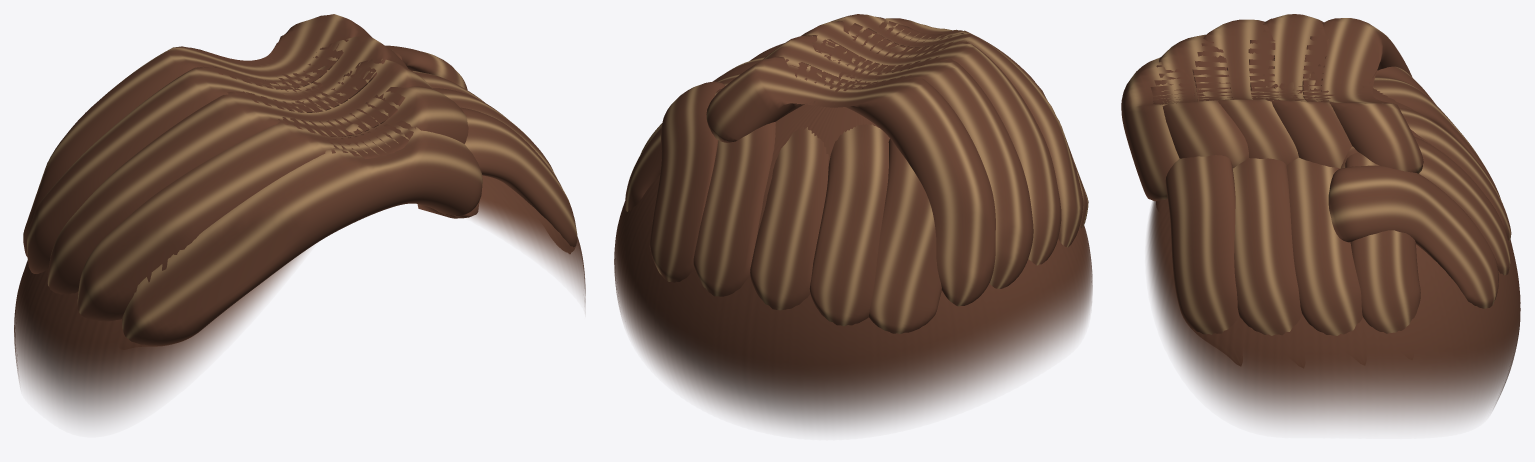
Rendered from Highlights-45efe110d885252-hair.glb.
3 views of the same model, side by side, from view 1: azimuth 30°, elevation 25°; view 2: azimuth 150°, elevation 25°; view 3: azimuth 270°, elevation 25° (orthographic). The views are drawn at different scales.
Visible parts, largest first — view 1: 226 hair / Hair252 / sculpted locks.001, 226 hair / Hair252 / gentle tonal variation.001, 226 hair / Hair252 / restored153 fade coverage.001; view 2: 226 hair / Hair252 / sculpted locks.001, 226 hair / Hair252 / restored153 fade coverage.001, 226 hair / Hair252 / gentle tonal variation.001; view 3: 226 hair / Hair252 / sculpted locks.001, 226 hair / Hair252 / restored153 fade coverage.001, 226 hair / Hair252 / gentle tonal variation.001.
Part boxes in pixels (bbox=[...]): 226 hair / Hair252 / sculpted locks.001: bbox=[23, 14, 557, 321]; 226 hair / Hair252 / gentle tonal variation.001: bbox=[122, 107, 577, 345]; 226 hair / Hair252 / restored153 fade coverage.001: bbox=[14, 82, 585, 422]; 226 hair / Hair252 / sculpted locks.001: bbox=[625, 14, 1083, 333]; 226 hair / Hair252 / restored153 fade coverage.001: bbox=[614, 70, 1092, 430]; 226 hair / Hair252 / gentle tonal variation.001: bbox=[750, 18, 1088, 326]; 226 hair / Hair252 / sculpted locks.001: bbox=[1150, 14, 1511, 335]; 226 hair / Hair252 / restored153 fade coverage.001: bbox=[1147, 85, 1520, 425]; 226 hair / Hair252 / gentle tonal variation.001: bbox=[1121, 57, 1500, 334].
Size of the model in its own units: 0.976 by 0.7079 by 0.7562.
Materials: 3 (3 with a texture image).
